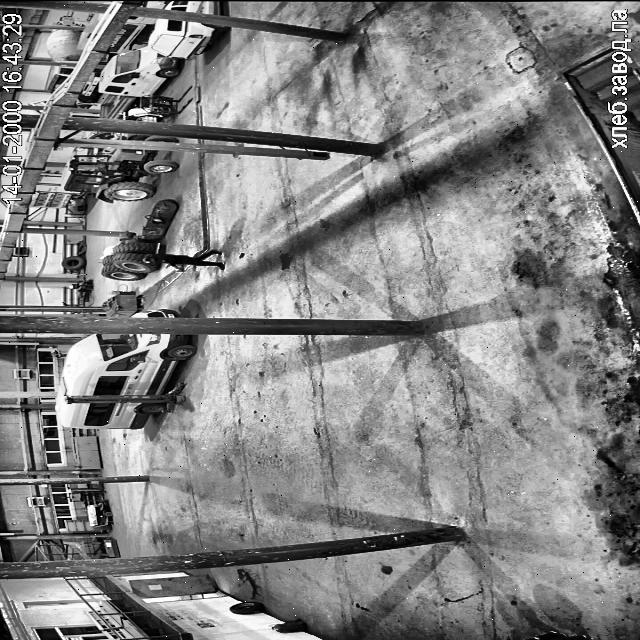class4: (142, 250, 223, 269), (524, 632, 588, 640)
class6: (60, 148, 178, 202), (140, 136, 177, 142), (114, 141, 116, 144)
class7: (55, 333, 196, 428), (99, 48, 179, 117), (148, 20, 228, 60), (108, 16, 156, 52), (80, 14, 105, 48), (45, 66, 73, 92), (166, 0, 219, 13), (77, 76, 100, 104), (132, 308, 179, 317), (140, 0, 164, 8)
tractor: (272, 620, 306, 632)
truck: (65, 383, 185, 412)
